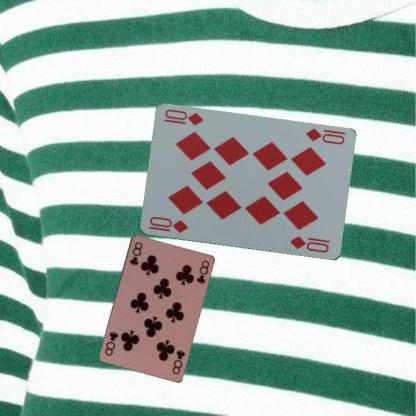10d: (146, 214, 189, 234), (303, 126, 346, 146)
8c: (127, 239, 144, 268), (169, 347, 186, 375)
